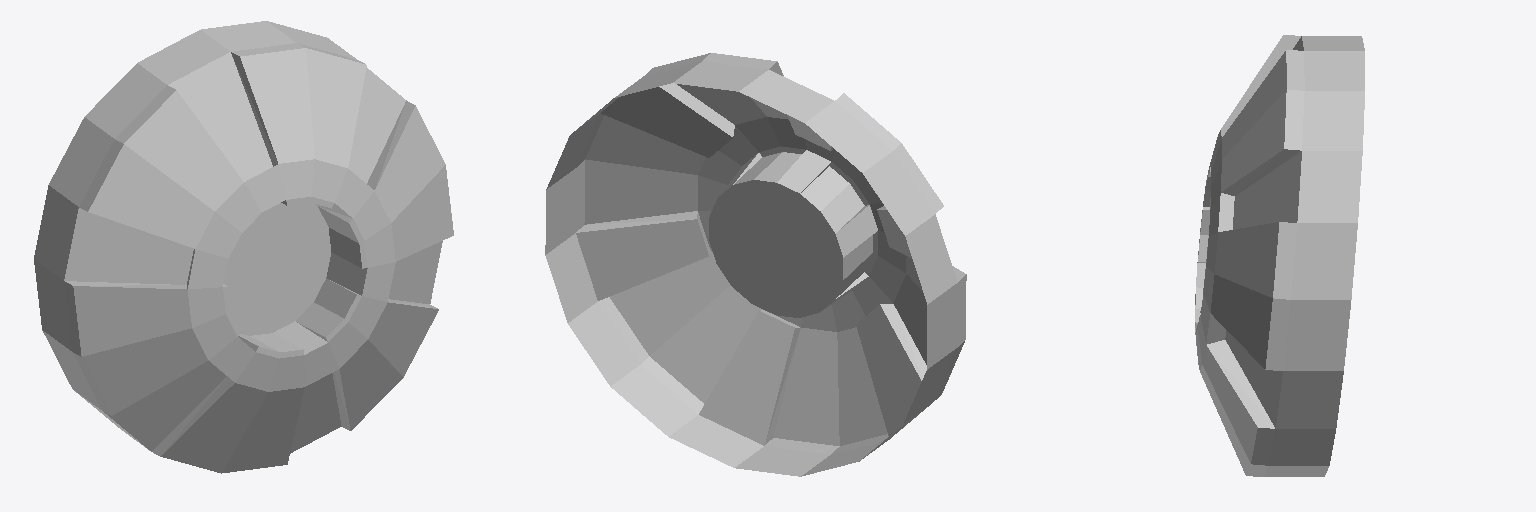
3 views of the same model, side by side, from view 1: azimuth 30°, elevation 25°; view 2: azimuth 150°, elevation 25°; view 3: azimuth 270°, elevation 25° (orthographic).
Visible parts, largest first — view 1: polySurface27 BellySquare:polySurface6; view 2: polySurface27 BellySquare:polySurface6; view 3: polySurface27 BellySquare:polySurface6.
Part boxes in pixels (x1,y1,x2,y2): polySurface27 BellySquare:polySurface6: (34, 21, 453, 473); polySurface27 BellySquare:polySurface6: (545, 53, 966, 476); polySurface27 BellySquare:polySurface6: (1195, 35, 1364, 476).
Bounding box in the file's own units: 0.1768 × 0.1772 × 0.0684.